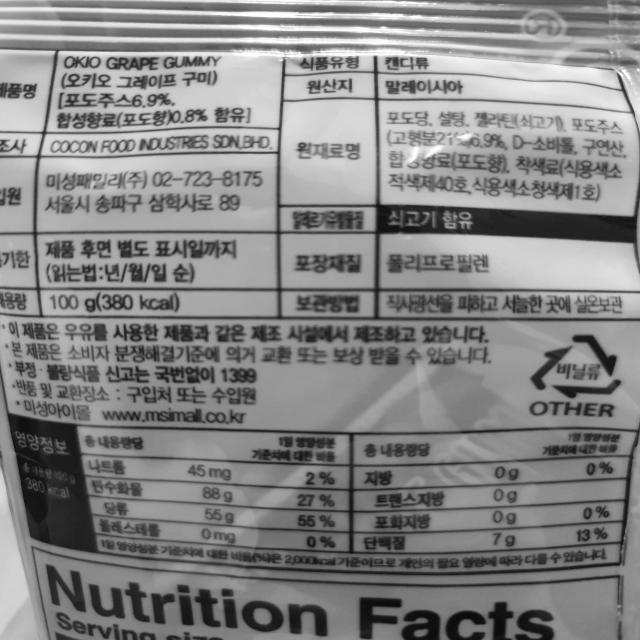Nutrition Label: (0, 410, 640, 588)
